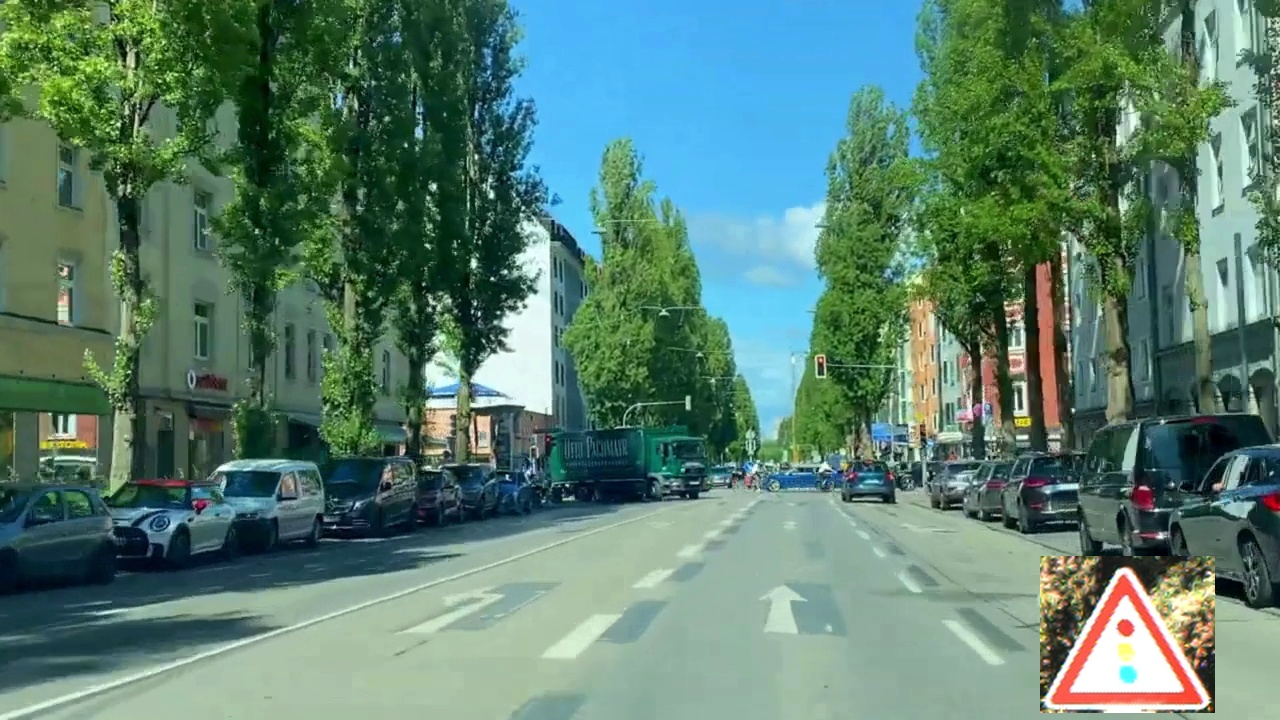Signals: (1040, 556, 1215, 713)
